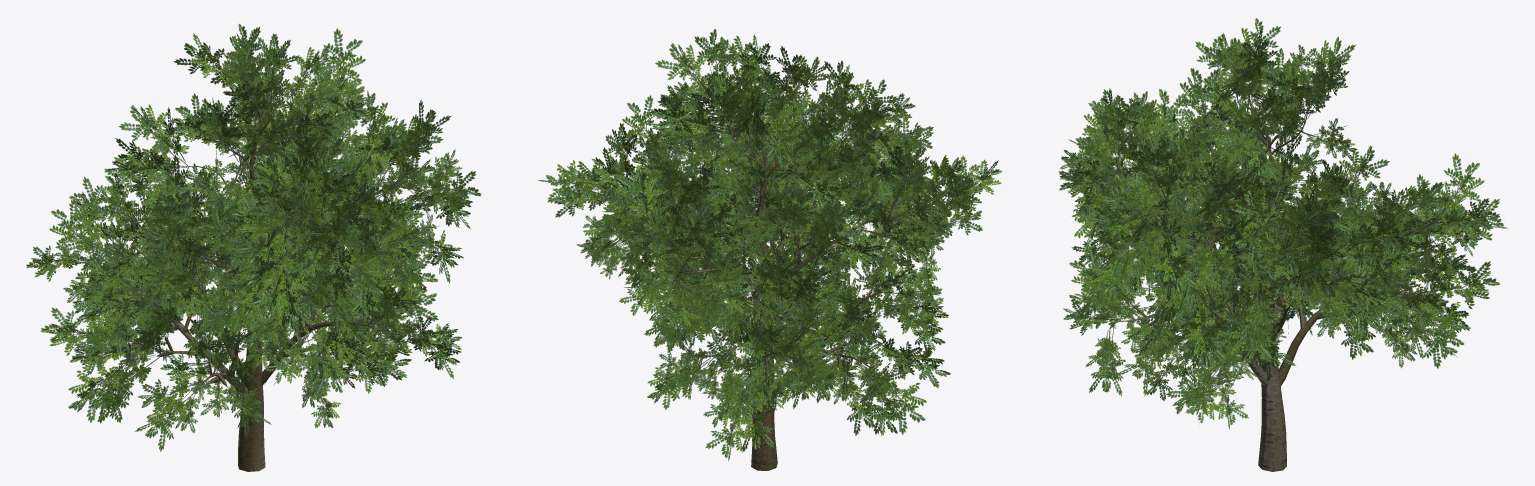
File: tree_1.glb
3 renders of one model, left to right at view 1: azimuth 30°, elevation 25°; view 2: azimuth 150°, elevation 25°; view 3: azimuth 270°, elevation 25°, orthographic. The views are drawn at different scales.
Visible parts, largest first — view 1: tree_1; view 2: tree_1; view 3: tree_1.
Part boxes in pixels (<box>): tree_1: <box>26,24,481,471</box>; tree_1: <box>538,29,1002,470</box>; tree_1: <box>1058,18,1507,471</box>.
Bounding box in the file's own units: 9.83 × 10.35 × 9.87.
Materials: 2 (2 with a texture image).
